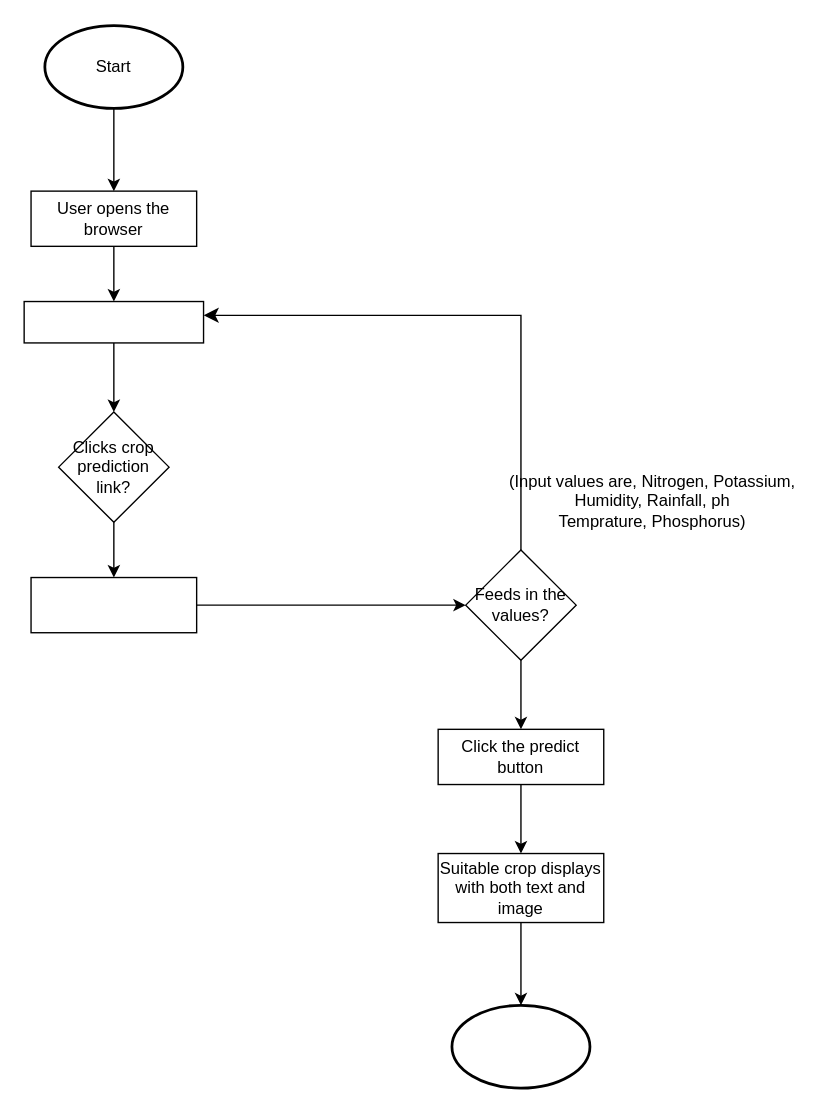
Image size: 835x1112. Some labels were removed from this diagram. The shapes that lost their labels are listed below. From the top down, each one's centre as x and y in pixels, then its label:
At point (113, 321): "User lands to homepage".
At point (113, 604): "User clicks on crop prediction button".
At point (520, 1046): "Stop".
